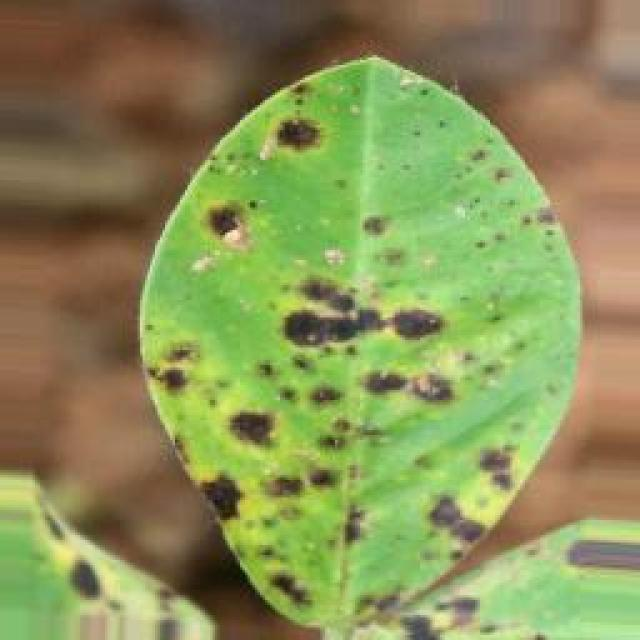Yellowish: (128, 71, 536, 618)
